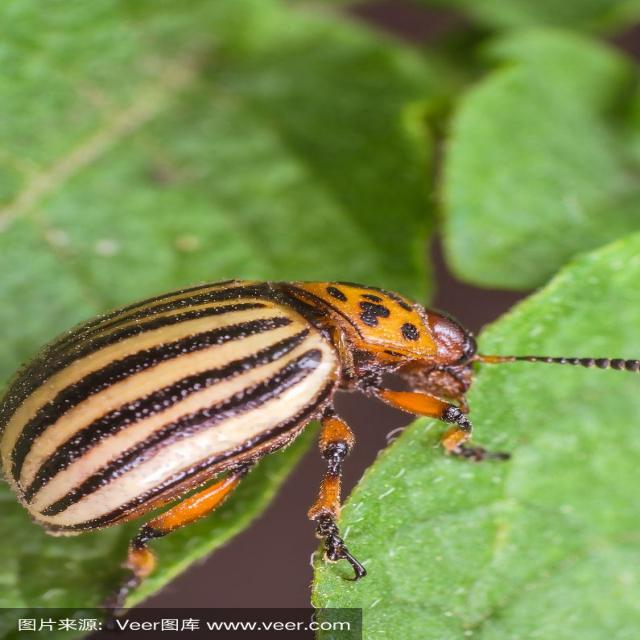ShuCaiHuaBanChong-Grown-: (3, 263, 502, 550)
